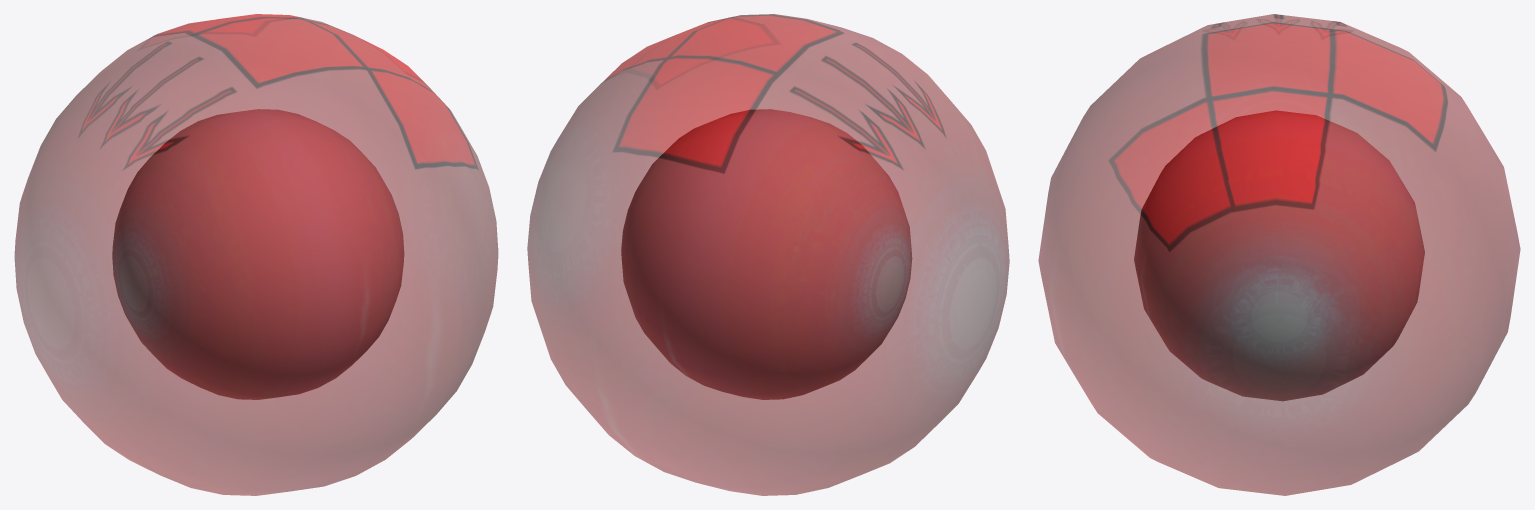
Rendered from Fast Fall Speed.fbx.
3 renders of one model, left to right at view 1: azimuth 30°, elevation 25°; view 2: azimuth 150°, elevation 25°; view 3: azimuth 270°, elevation 25°, orthographic.
Parts seen in each view (by area): view 1: polySurface1; view 2: polySurface1; view 3: polySurface1.
Part boxes in pixels (box(x1,y1,x2,y2)): polySurface1: box(14, 14, 498, 495); polySurface1: box(527, 14, 1009, 495); polySurface1: box(1038, 14, 1520, 495).
Bounding box in the file's own units: 2 × 2 × 2.
2 materials, 2 textured.
